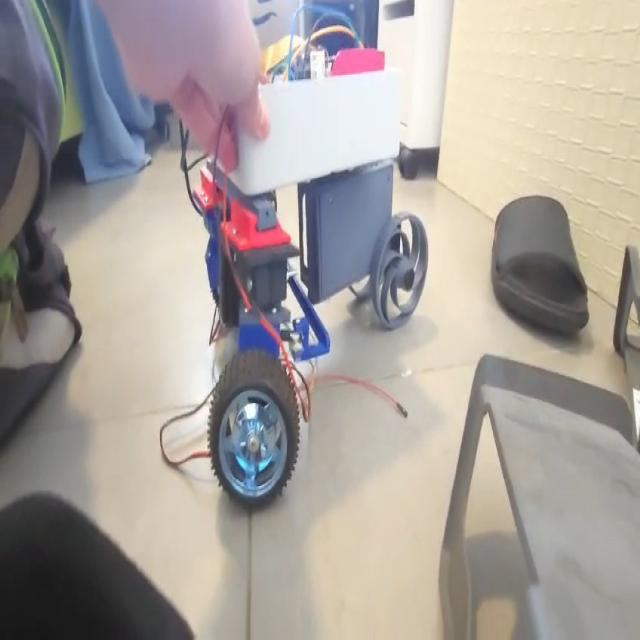Robot: (192, 39, 429, 510)
